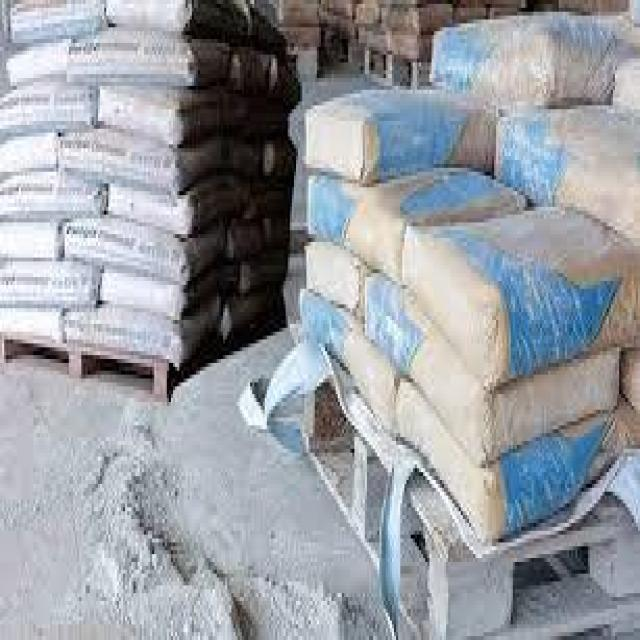gunny_bag: (361, 265, 624, 466), (404, 201, 637, 388), (395, 374, 624, 546), (495, 103, 640, 246), (304, 87, 491, 182), (427, 14, 615, 106), (300, 284, 398, 436), (306, 172, 404, 284), (63, 215, 223, 282), (57, 127, 221, 192), (63, 304, 207, 371), (66, 29, 226, 87), (95, 82, 233, 149), (109, 175, 247, 235), (101, 267, 213, 320), (0, 171, 105, 221), (305, 238, 365, 320), (0, 84, 95, 134), (1, 262, 95, 307), (3, 39, 69, 89), (0, 130, 57, 173), (1, 305, 63, 342), (234, 251, 284, 296), (0, 224, 63, 259), (220, 294, 261, 340), (232, 43, 268, 95), (228, 217, 266, 261), (244, 186, 287, 220), (228, 136, 263, 174)
